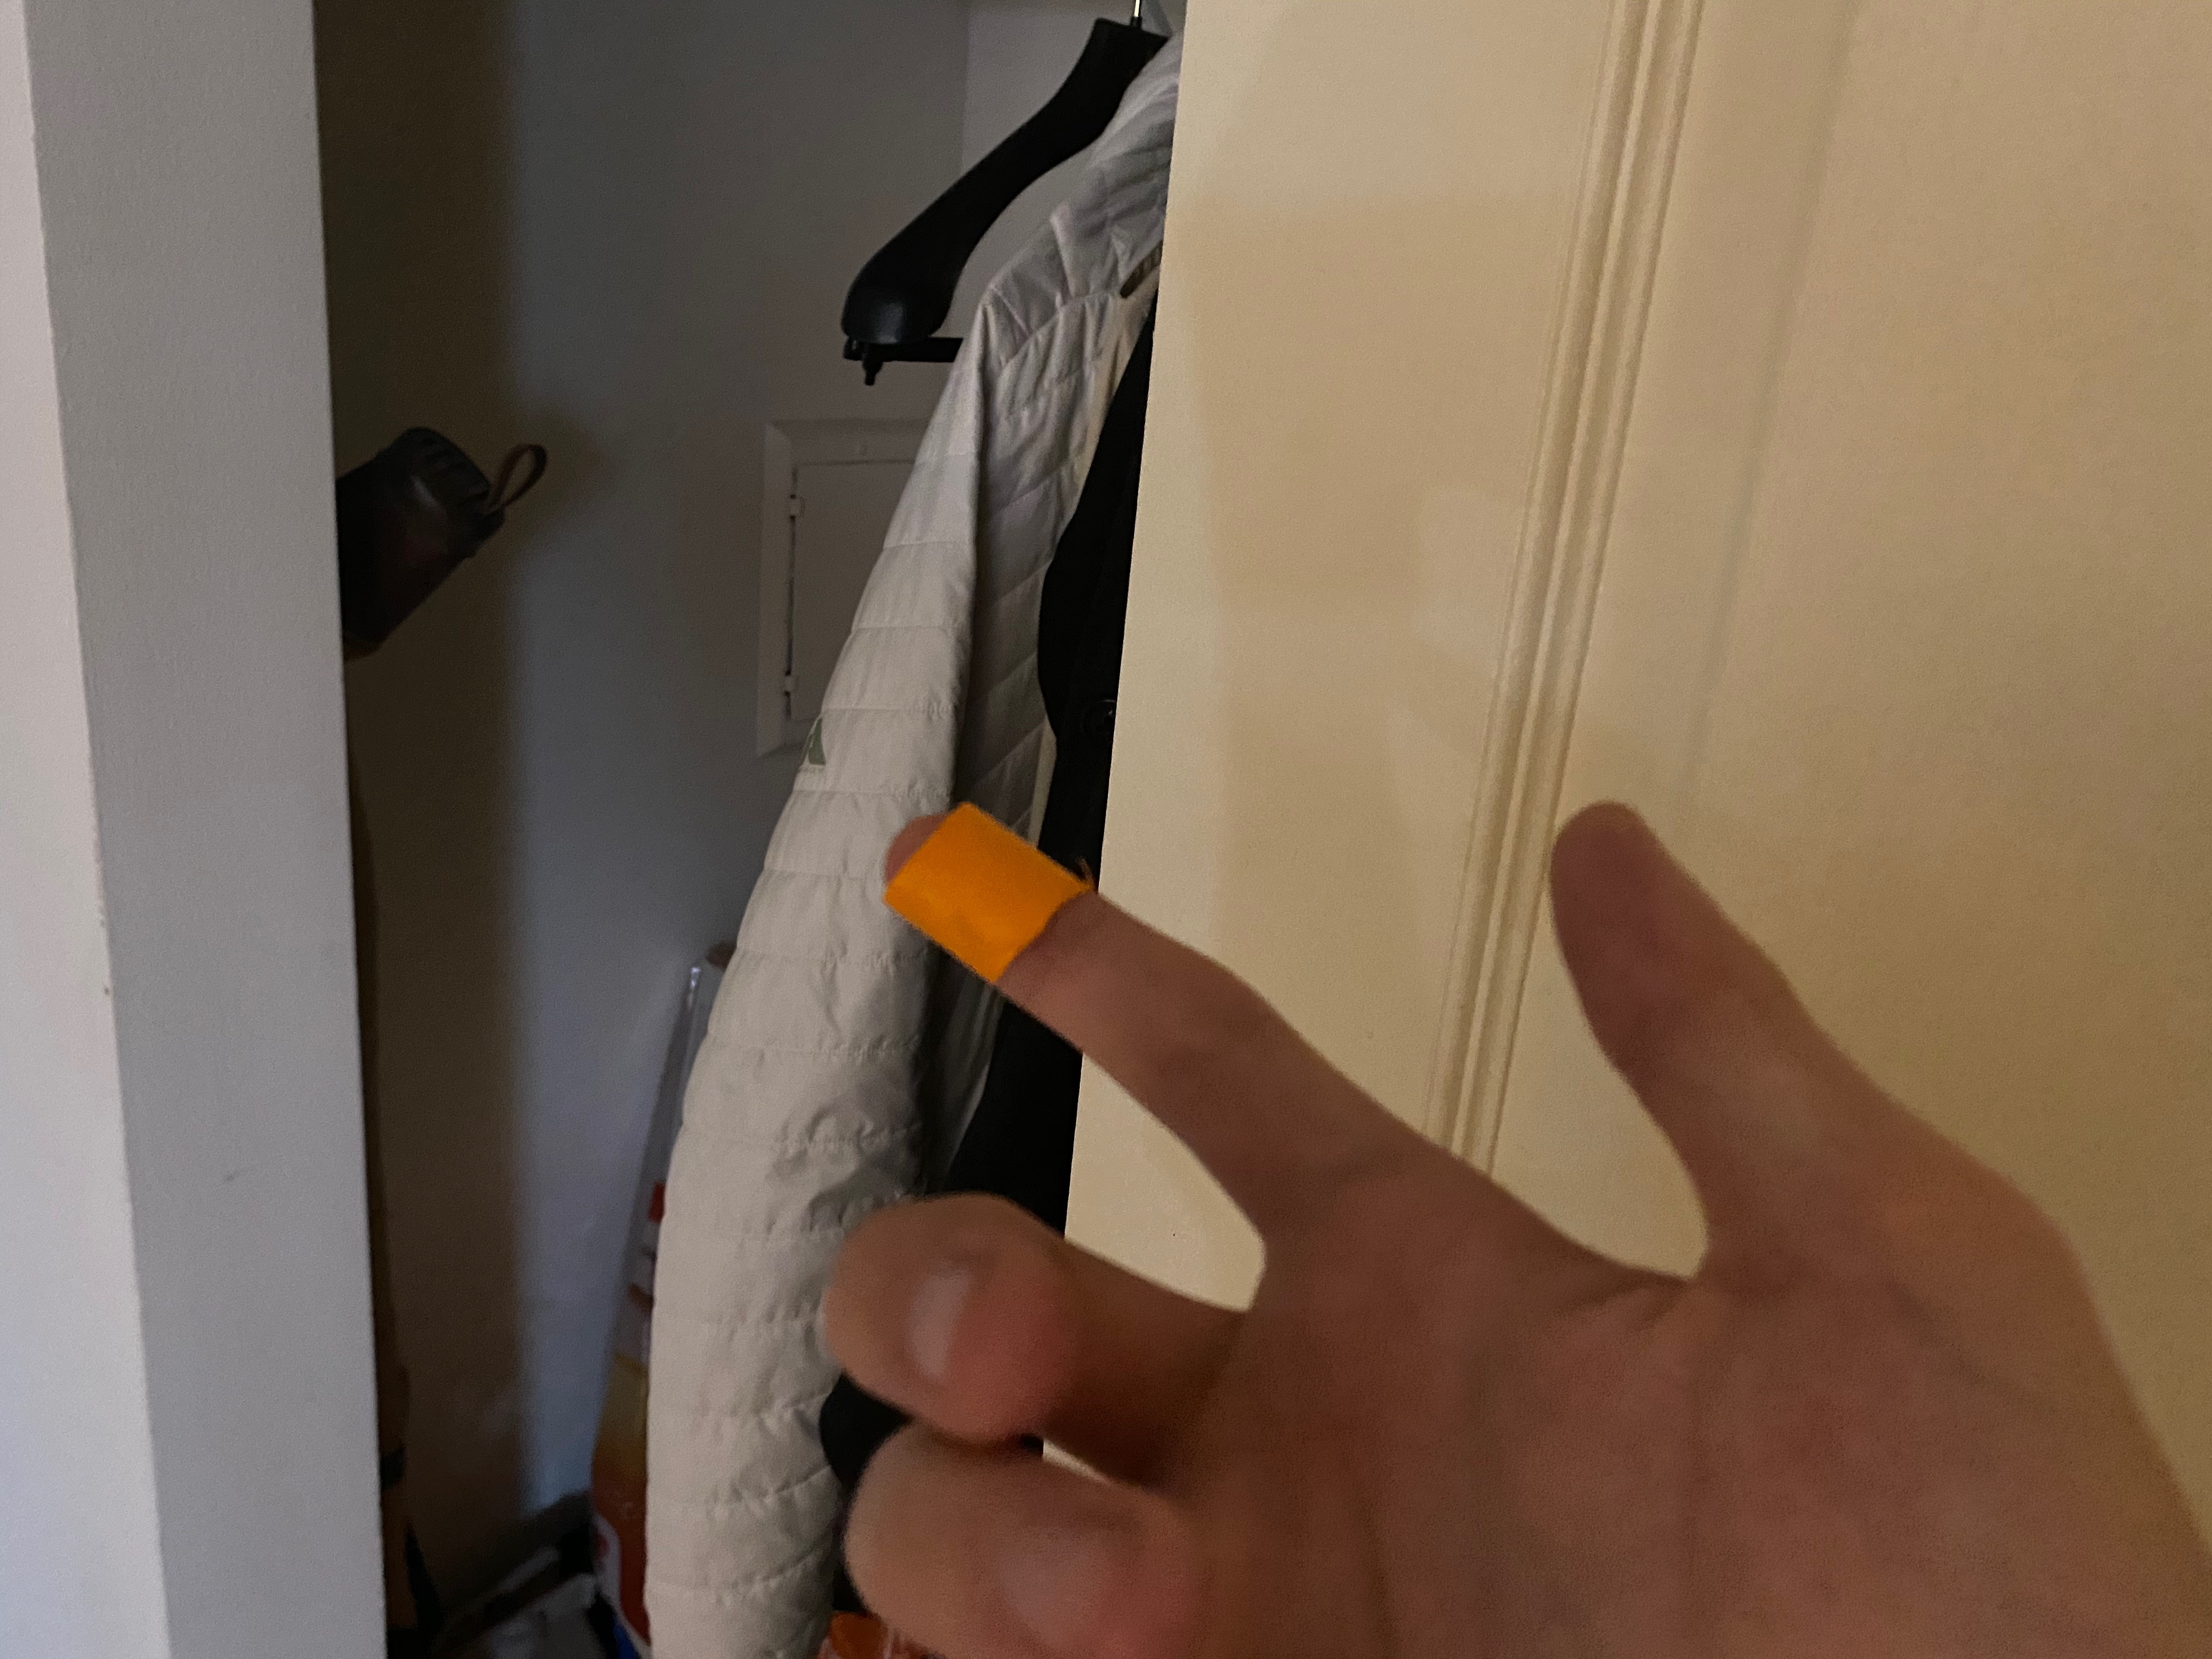fingertip: (834, 777, 1151, 1009)
